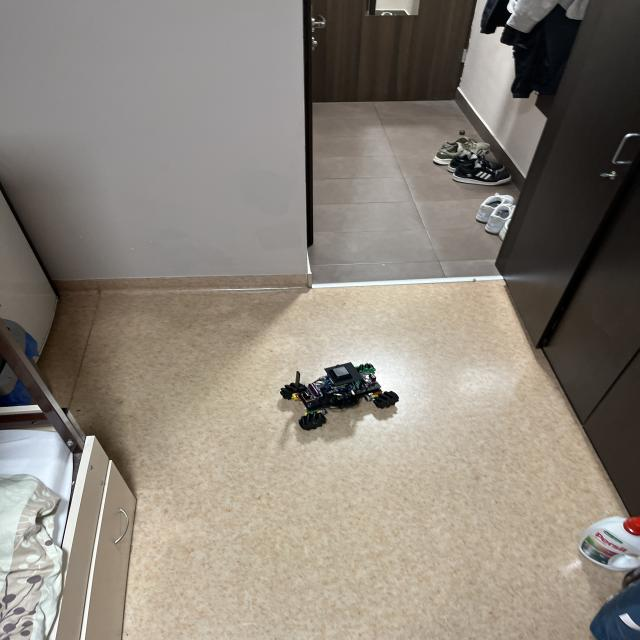robot: (280, 363, 399, 430)
